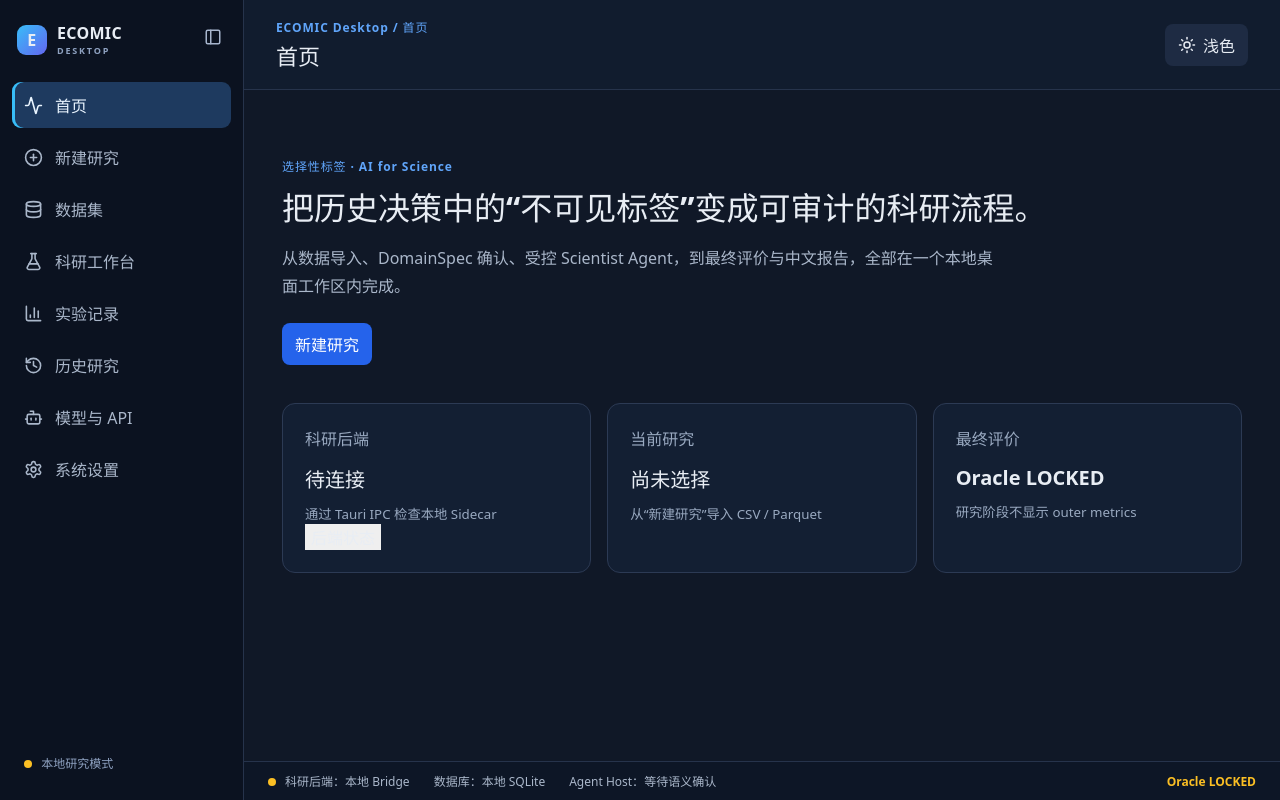
it: DesktopBridge health UI › renders a recoverable unavailable state when the backend rejects
The image size is (1280, 800).
Click the button "后端状态": (343, 537) 305,524 -> 381,550
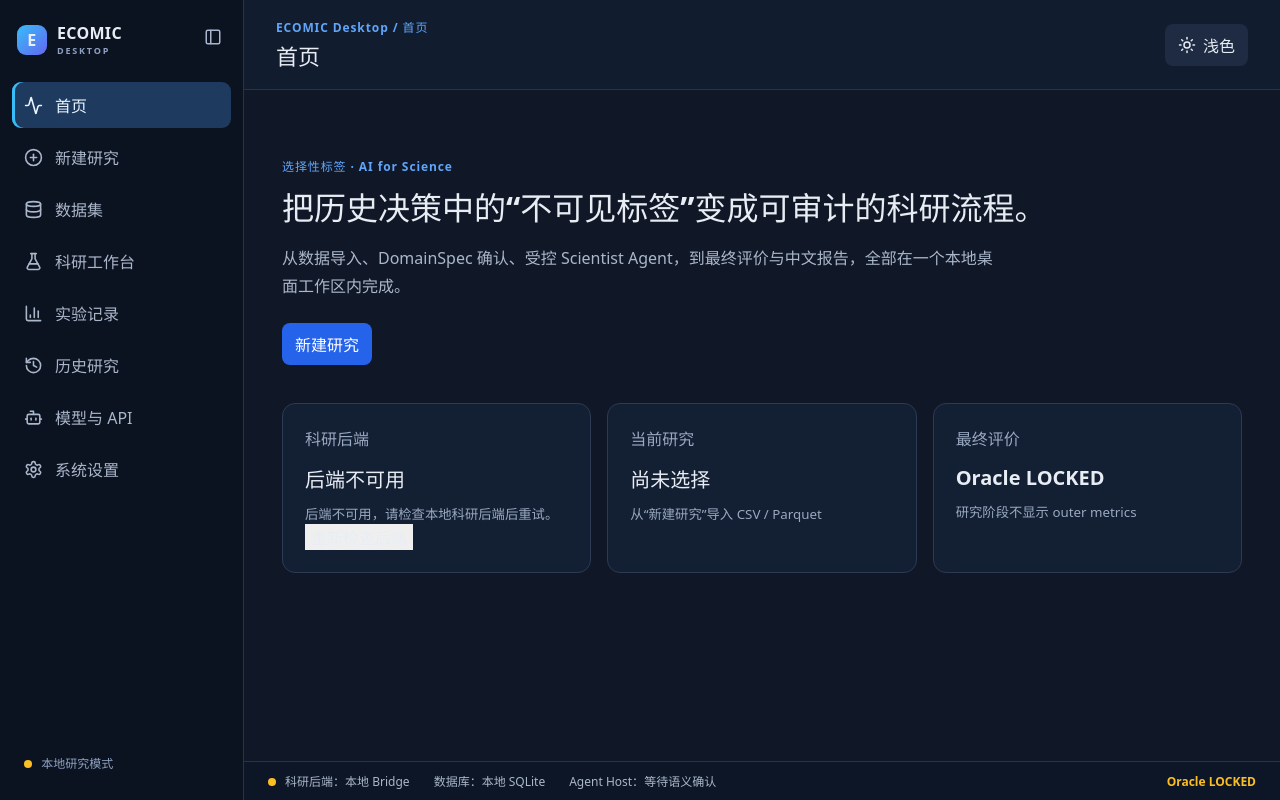
expect the heading "后端不可用" is shown: met, box 305,466 -> 405,493
expect the text "后端不可用，请检查本地科研后端后重试。" is shown: met, box 305,505 -> 558,523
expect the button "重新检查后端" is shown: met, box 305,524 -> 413,550
